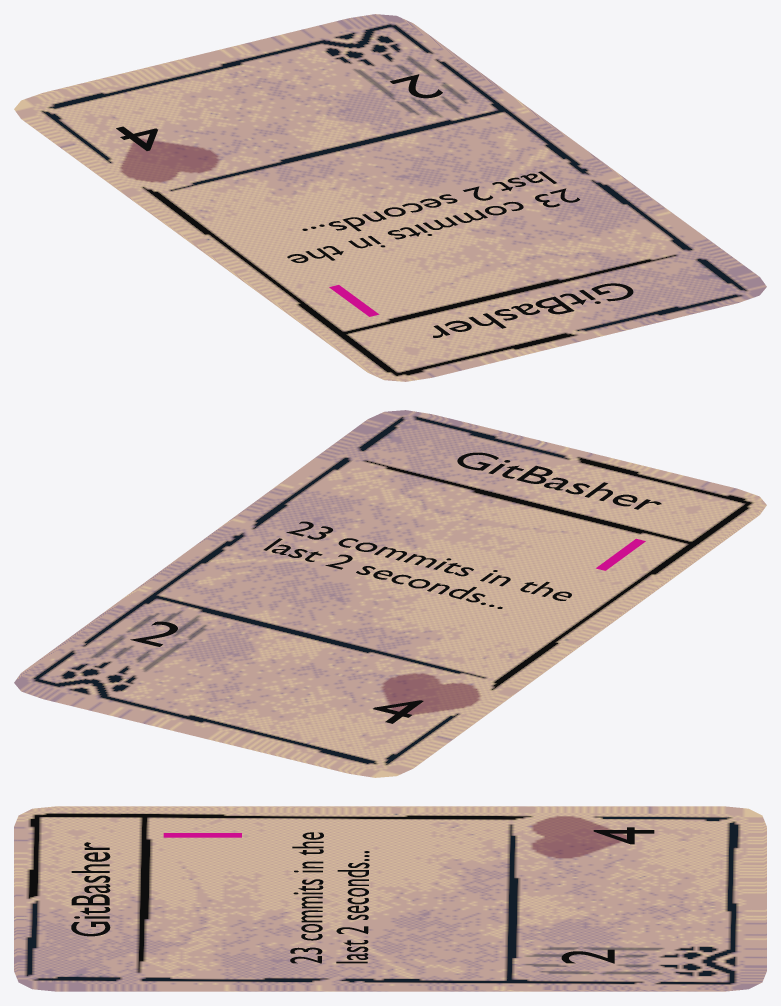
File: GitBasher.glb
3 renders of one model, top to bottom at view 1: azimuth 30°, elevation 25°; view 2: azimuth 150°, elevation 25°; view 3: azimuth 270°, elevation 25°, orthographic. The views are drawn at different scales.
Visible parts, largest first — view 1: GitBasher; view 2: GitBasher; view 3: GitBasher.
Part boxes in pixels (x1,y1,x2,y2): GitBasher: [14, 14, 766, 381]; GitBasher: [14, 410, 766, 777]; GitBasher: [14, 806, 766, 991].
Size of what is drawn, in the model's own units: 44.93 by 0.4028 by 77.22.
5 materials, 1 textured.
